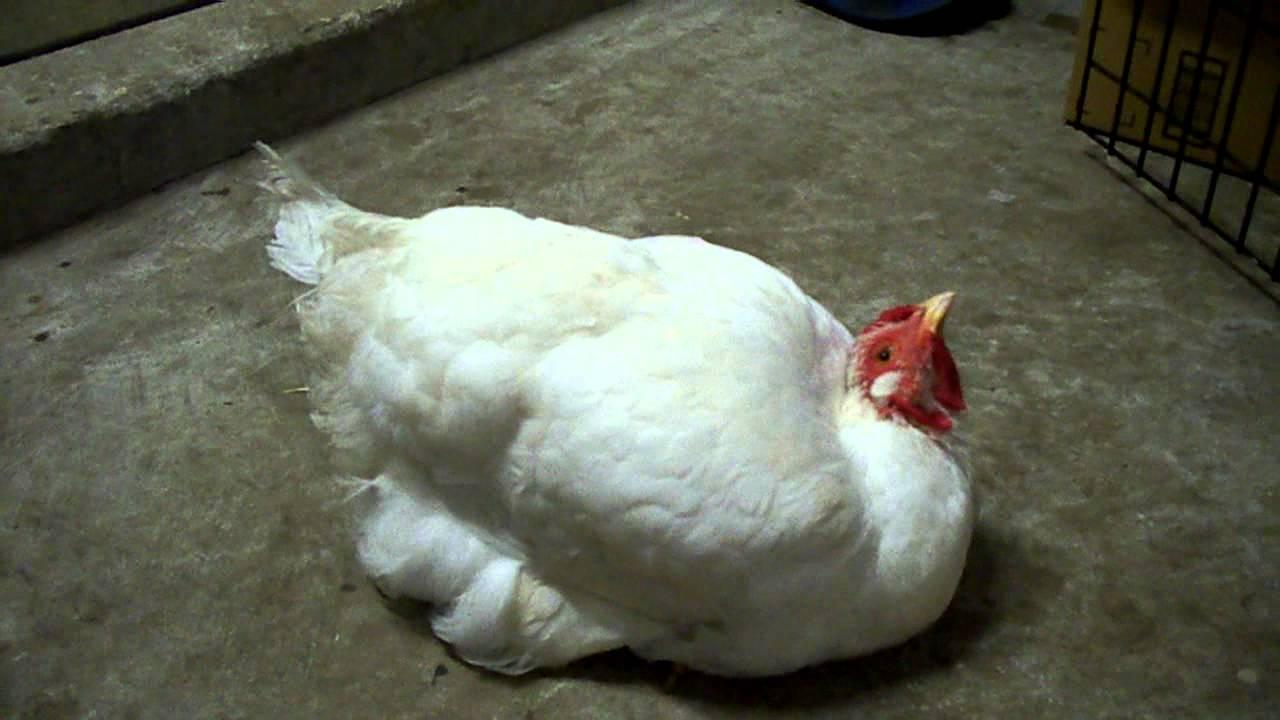AbNormal: (293, 135, 996, 705)
